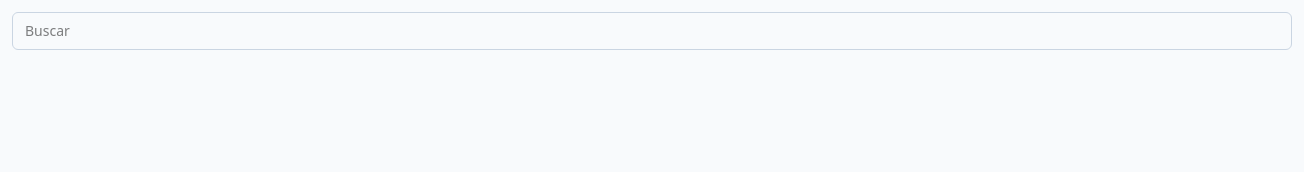
SearchCombobox › no ofrece los ids excluidos y avisa cuando no hay resultados
This screenshot has width=1304, height=172.
Focus the dropdown. click: (652, 31)
box: [12,12,1292,50]
Wait 300 ms
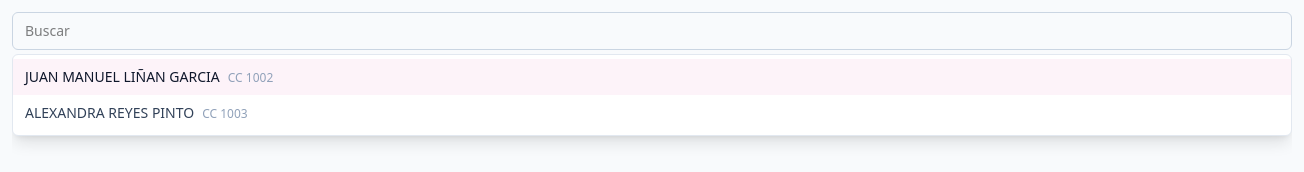
Expected: the number of options is 2, [13,59,1291,95]; [25,103,248,122]
Type "zzz" into the dropdown. click: (652, 31)
box: [12,12,1292,50]
Wait 300 ms
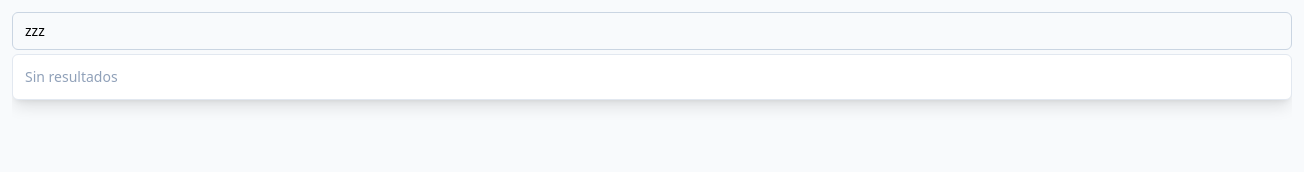
Expected: the list item "Sin resultados" is shown, [25,67,118,86]
